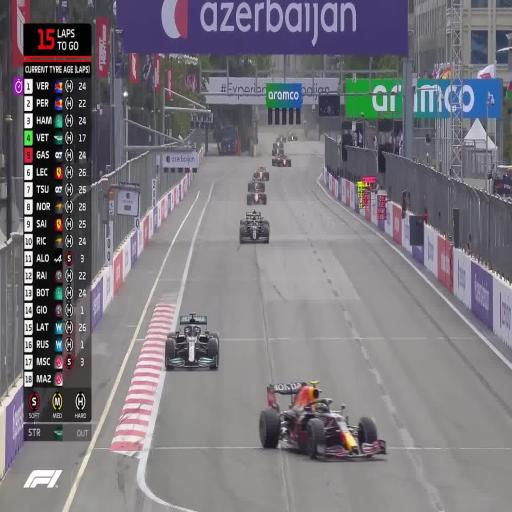f1_car: (259, 381, 386, 458), (164, 312, 219, 369), (240, 210, 269, 243), (247, 176, 265, 192), (247, 190, 266, 205), (272, 154, 291, 167), (253, 167, 269, 181), (272, 142, 284, 155), (288, 132, 298, 141), (276, 133, 286, 142)
